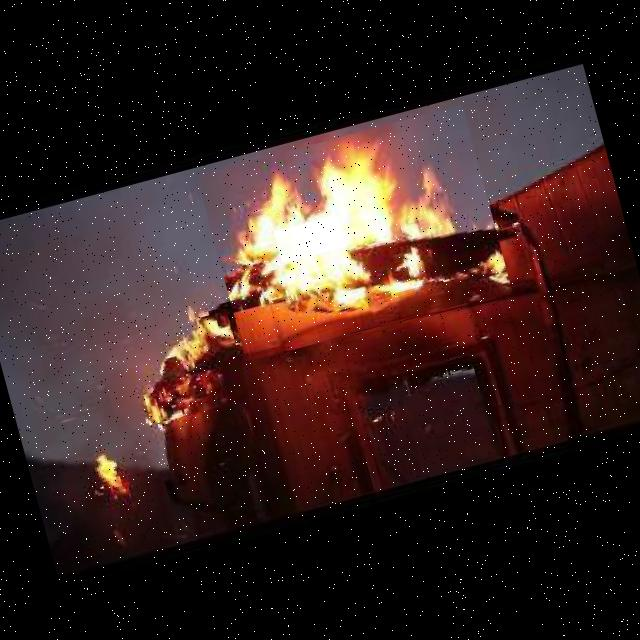fire: (196, 104, 512, 362), (95, 310, 250, 433)
